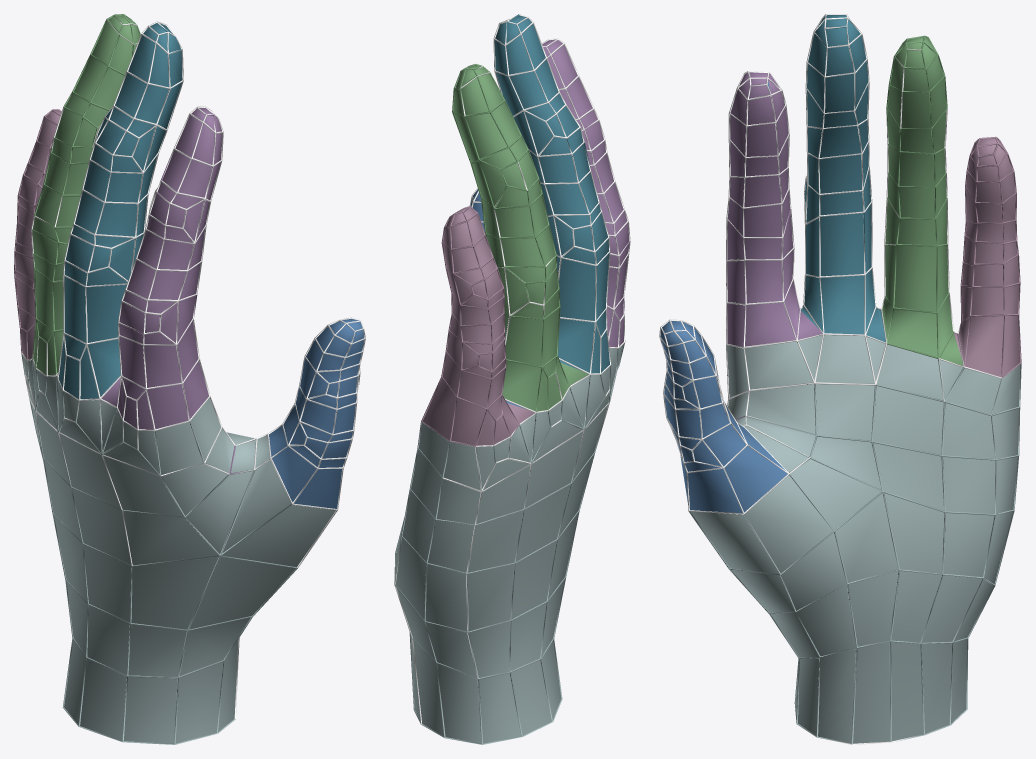
The model's file is hand.glb.
3 views of the same model, side by side, from view 1: azimuth 30°, elevation 25°; view 2: azimuth 150°, elevation 25°; view 3: azimuth 270°, elevation 25° (orthographic). The views are drawn at different scales.
Visible parts, largest first — view 1: Hand_Wireframe; view 2: Hand_Wireframe; view 3: Hand_Wireframe.
Part boxes in pixels (x1,y1,x2,y2): Hand_Wireframe: [14, 14, 365, 744]; Hand_Wireframe: [394, 14, 630, 744]; Hand_Wireframe: [659, 14, 1021, 744].
Bounding box in the file's own units: 0.0581 × 0.1759 × 0.0837.
